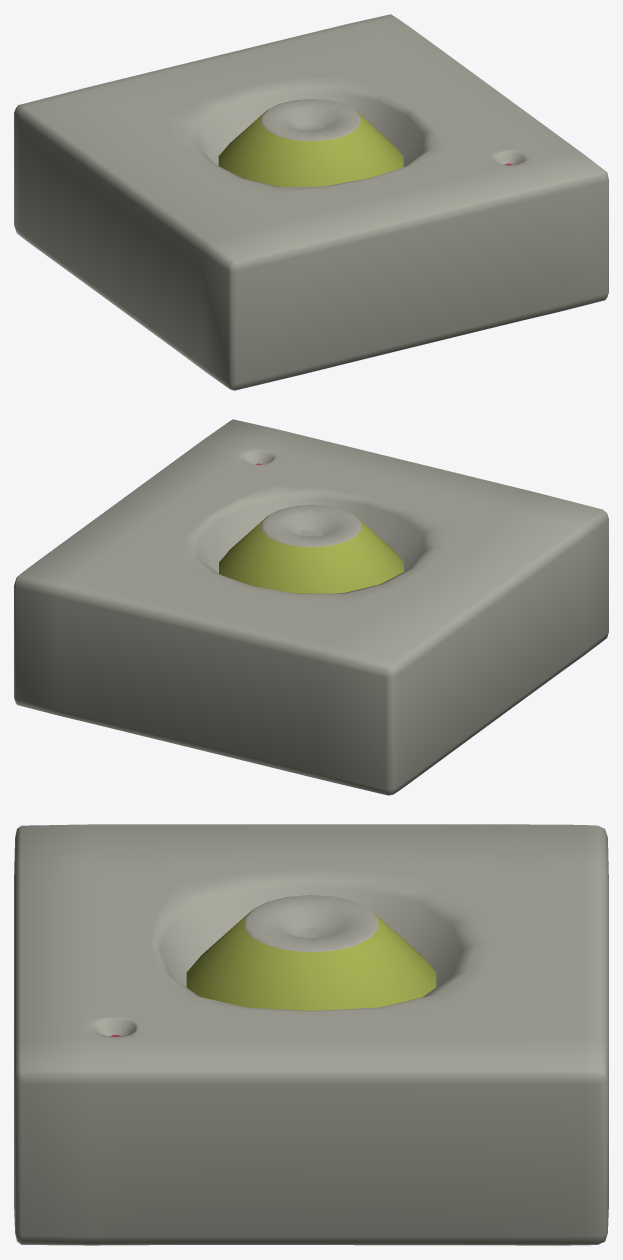
Rendered from sirena_3.fbx.
The picture shows the model from 3 angles, top to bottom: view 1: azimuth 30°, elevation 25°; view 2: azimuth 150°, elevation 25°; view 3: azimuth 270°, elevation 25°; orthographic projection. The views are drawn at different scales.
Visible parts, largest first — view 1: sirena_003_LOD0; view 2: sirena_003_LOD0; view 3: sirena_003_LOD0.
Boxes of the visible parts, <box> form: sirena_003_LOD0: <box>14,14,608,390</box>; sirena_003_LOD0: <box>14,419,608,795</box>; sirena_003_LOD0: <box>14,824,608,1245</box>.
Size of what is drawn, in the model's own units: 8.94 by 3.35 by 8.94.
